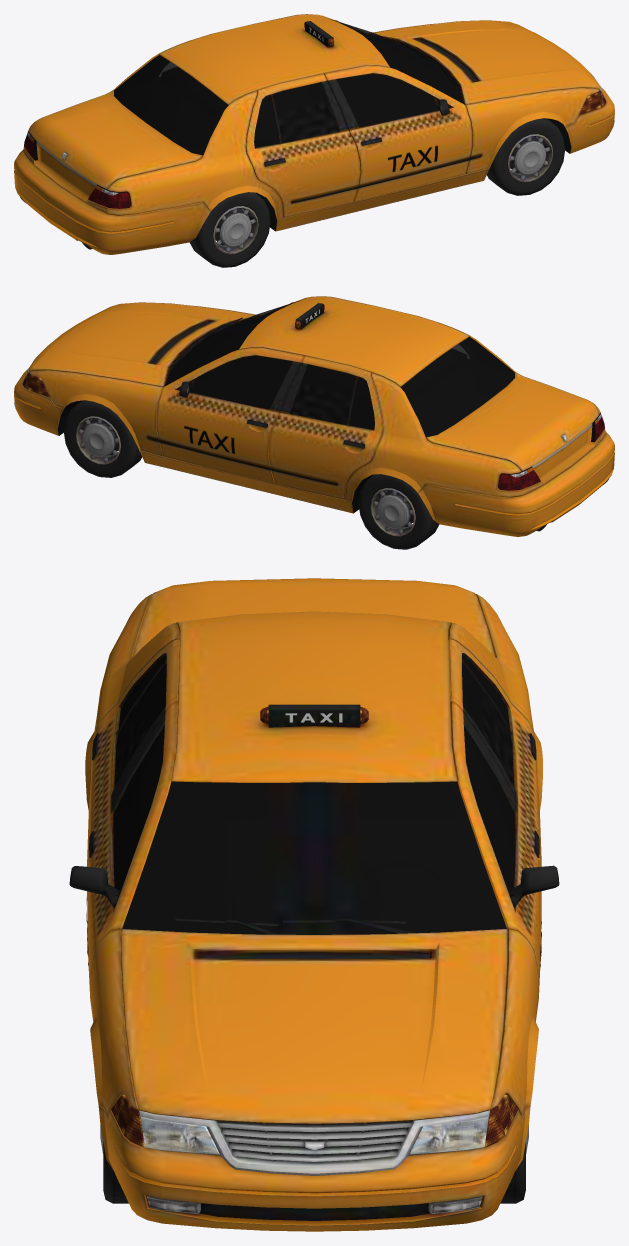
File: taxi.glb
The picture shows the model from 3 angles, top to bottom: view 1: azimuth 30°, elevation 25°; view 2: azimuth 150°, elevation 25°; view 3: azimuth 270°, elevation 25°; orthographic projection. The views are drawn at different scales.
Visible parts, largest first — view 1: taxi_taxi_0, taxi_taxi_glass_0, taxi_taxi_optics_0, taxi_taxi_decal_0; view 2: taxi_taxi_0, taxi_taxi_glass_0, taxi_taxi_optics_0, taxi_taxi_decal_0; view 3: taxi_taxi_0, taxi_taxi_glass_0, taxi_taxi_optics_0.
Boxes of the visible parts, box(x1,y1,x2,y2) form: taxi_taxi_0: box(14, 14, 614, 267); taxi_taxi_glass_0: box(114, 18, 463, 155); taxi_taxi_optics_0: box(24, 21, 614, 208); taxi_taxi_decal_0: box(309, 27, 437, 172); taxi_taxi_0: box(14, 296, 614, 549); taxi_taxi_glass_0: box(165, 300, 514, 437); taxi_taxi_optics_0: box(14, 303, 604, 490); taxi_taxi_decal_0: box(184, 309, 319, 453); taxi_taxi_0: box(69, 578, 559, 1231); taxi_taxi_glass_0: box(113, 655, 515, 934); taxi_taxi_optics_0: box(111, 706, 518, 1214).
Bounding box in the file's own units: 5.09 × 1.5 × 2.
4 materials, 4 textured.
